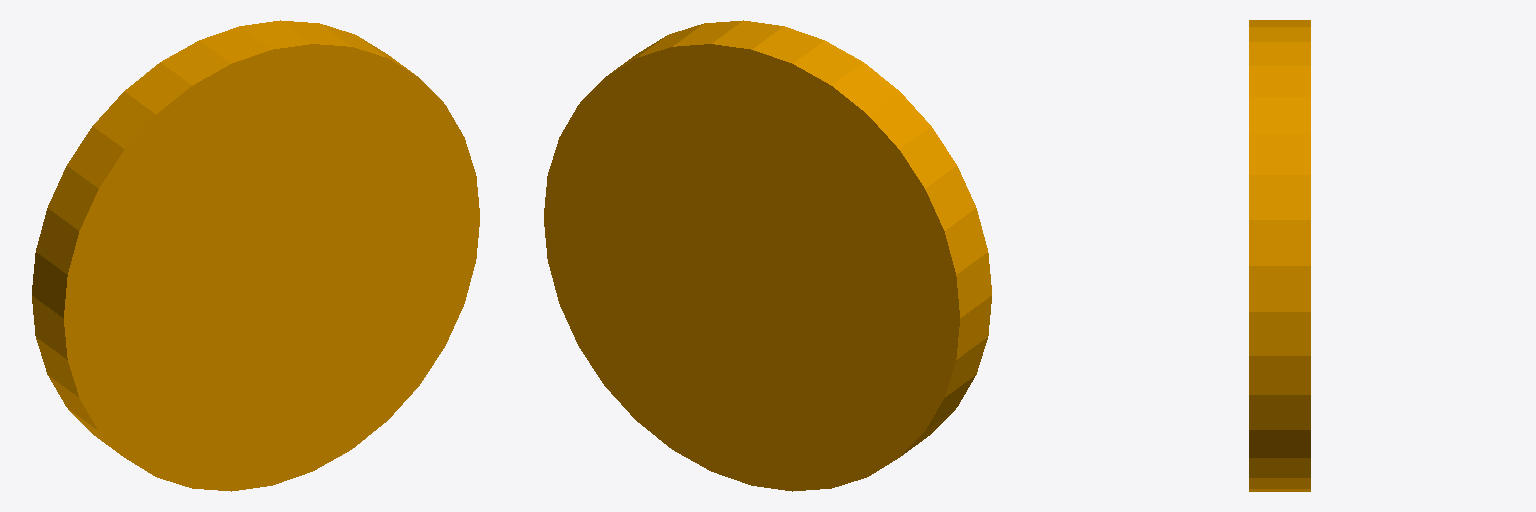
The robot description file, URDF, robot "wheel":
<?xml version="1.0"?>
<robot name="wheel">
  <link name="left_wheel_link">
  

    <visual>
      <origin xyz="0 0 0" rpy="1.5708 0 0"/>
      <geometry>
        <cylinder radius="0.75" length="0.2"/>
      </geometry>
    </visual>


    <inertial>
      <origin xyz="0 0 0" rpy="1.5708 0 0"/>
      <mass value="0.5"/>
      <inertia ixx="0.078" ixy="0.0" ixz="0.0" iyy="0.078" iyz="0.0" izz="1.406"/>
    </inertial>

    <collision>
      <origin xyz="0 0 0" rpy="1.5708 0 0"/>
      <geometry>
        <cylinder radius="0.75" length="0.2"/>
      </geometry>
    </collision>

  <gazebo reference="left_wheel_link">
    <mu1>1.0</mu1>
    <mu2>1.0</mu2>
  </gazebo>

  </link>
</robot>

--- Facts derived from the render (not from the file) ---
3 views of the same robot in one strip: view 1: azimuth 30°, elevation 25°; view 2: azimuth 150°, elevation 25°; view 3: azimuth 270°, elevation 25° (orthographic).
Robot: wheel — 1 links, 0 joints (none); root link left_wheel_link; default pose: all joints at 0.
Links seen in each view (by area): view 1: left_wheel_link; view 2: left_wheel_link; view 3: left_wheel_link.
Boxes of the visible links, bbox=[...] form: left_wheel_link: bbox=[32, 20, 479, 491]; left_wheel_link: bbox=[544, 20, 991, 491]; left_wheel_link: bbox=[1249, 20, 1310, 491].
Bounding box of the posed robot: 1.5 × 0.2 × 1.5 m (x, y, z).
Geometry: primitives only (box / cylinder / sphere), no mesh files.
